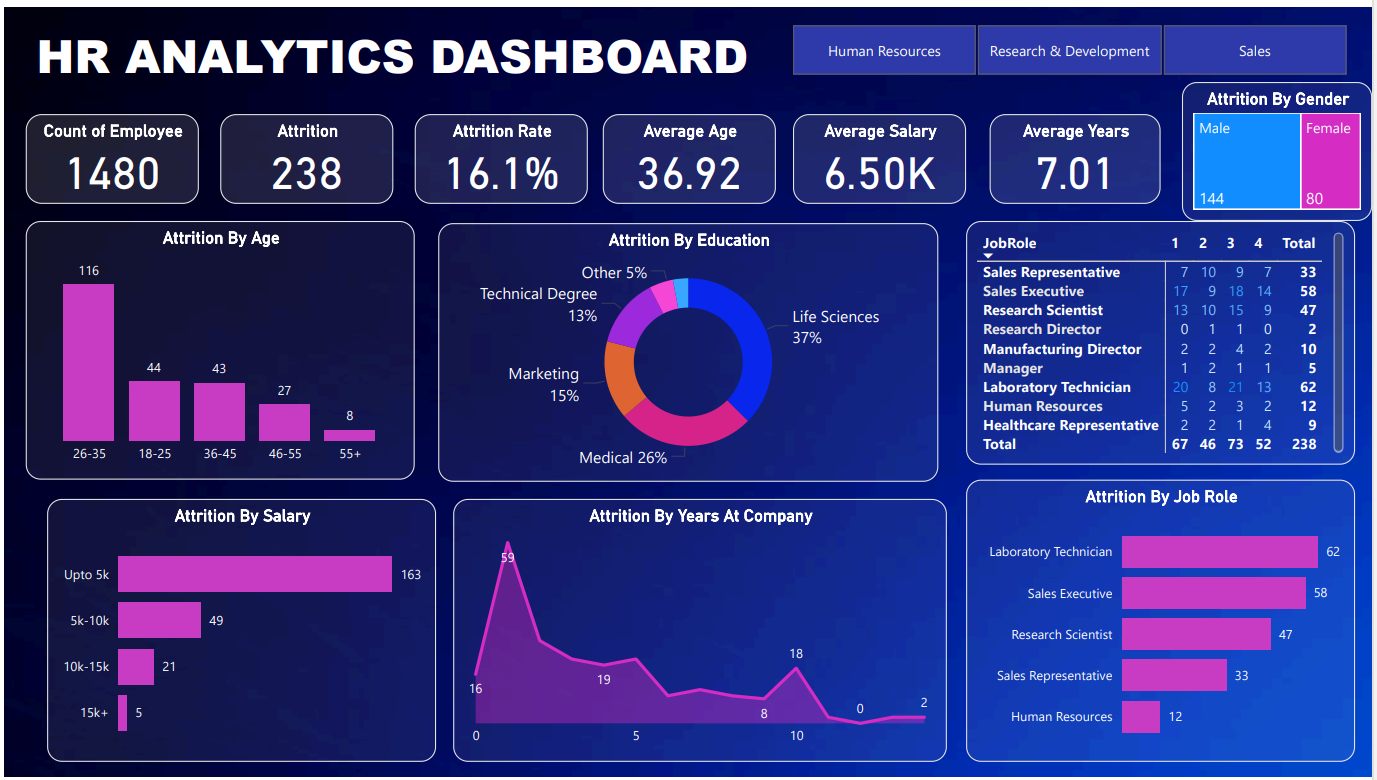

Layout of this report page (visuals, bound fields, positions):
{"tool":"powerbi","page":{"name":"Page 1","canvas":[1280,720],"ordinal":0},"visuals":[{"type":"card","title":"Count of Employee","fields":{"Values":["CountNonNull(HR_Analytics.EmpID)"]},"box":[20,100,162,84],"z":0},{"type":"card","title":"Attrition","fields":{"Values":["Sum(HR_Analytics.AttritionCount)"]},"box":[202,100,162,84],"z":1000},{"type":"card","title":"Attrition Rate","fields":{"Values":["HR_Analytics.AttritionRate"]},"box":[384,100,162,84],"z":2000},{"type":"card","title":"Average Age","fields":{"Values":["Avg(HR_Analytics.Age)"]},"box":[560,100,162,84],"z":3000},{"type":"card","title":"Average Salary","fields":{"Values":["Avg(HR_Analytics.MonthlyIncome)"]},"box":[738,100,162,84],"z":4000},{"type":"card","title":"Average Years","fields":{"Values":["Avg(HR_Analytics.YearsAtCompany)"]},"box":[922,100,160,84],"z":5000},{"type":"donutChart","title":"Attrition By Education","fields":{"Category":["HR_Analytics.EducationField"],"Y":["Sum(HR_Analytics.AttritionCount)"]},"box":[406,202,468,242],"z":6000},{"type":"columnChart","title":"Attrition By Age","fields":{"Y":["Sum(HR_Analytics.AttritionCount)"],"Category":["HR_Analytics.AgeGroup"]},"box":[20,200,364,242],"z":7000},{"type":"pivotTable","fields":{"Rows":["HR_Analytics.JobRole"],"Columns":["HR_Analytics.JobSatisfaction"],"Values":["Sum(HR_Analytics.AttritionCount)"]},"box":[900,200,364,228],"z":8000},{"type":"barChart","title":"Attrition By Salary","fields":{"Category":["HR_Analytics.SalarySlab"],"Y":["Sum(HR_Analytics.AttritionCount)"]},"box":[40,460,364,246],"z":9000},{"type":"barChart","title":"Attrition By Job Role","fields":{"Category":["HR_Analytics.JobRole"],"Y":["Sum(HR_Analytics.AttritionCount)"]},"box":[900,442,364,264],"z":10000},{"type":"areaChart","title":"Attrition By Years At Company","fields":{"Category":["HR_Analytics.YearsAtCompany"],"Y":["Sum(HR_Analytics.AttritionCount)"]},"box":[420,460,462,246],"z":11000},{"type":"treemap","title":"Attrition By Gender","fields":{"Group":["HR_Analytics.Gender"],"Values":["Sum(HR_Analytics.AttritionCount)"]},"box":[1102,70,178,130],"z":12000},{"type":"slicer","fields":{"Values":["HR_Analytics.Department"]},"box":[712,10,568,60],"z":13000},{"type":"textbox","box":[4,10,718,78],"z":14000}]}

Visuals, with their boxes in screenshot pixels (x1, y1, x2, y2), scaled from the page's 1280x720 canvas onto the 1377x780 screenshot:
"Count of Employee" card: box=[22, 108, 196, 199]
"Attrition" card: box=[217, 108, 392, 199]
"Attrition Rate" card: box=[413, 108, 587, 199]
"Average Age" card: box=[602, 108, 777, 199]
"Average Salary" card: box=[794, 108, 968, 199]
"Average Years" card: box=[992, 108, 1164, 199]
"Attrition By Education" donutChart: box=[437, 219, 940, 481]
"Attrition By Age" columnChart: box=[22, 217, 413, 479]
pivotTable - HR_Analytics.JobRole x HR_Analytics.JobSatisfaction: box=[968, 217, 1360, 464]
"Attrition By Salary" barChart: box=[43, 498, 435, 765]
"Attrition By Job Role" barChart: box=[968, 479, 1360, 765]
"Attrition By Years At Company" areaChart: box=[452, 498, 949, 765]
"Attrition By Gender" treemap: box=[1186, 76, 1376, 217]
slicer - HR_Analytics.Department: box=[766, 11, 1376, 76]
textbox: box=[4, 11, 777, 95]
